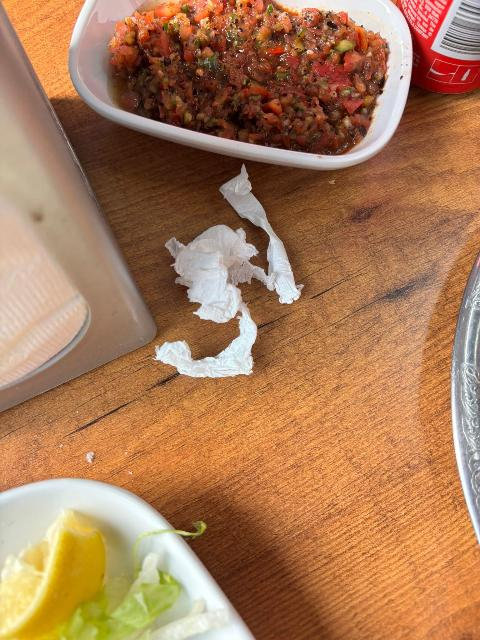Kagit: (155, 169, 312, 384)
Metal: (455, 247, 480, 542), (409, 0, 478, 92)
Organik: (144, 25, 350, 108), (2, 519, 102, 627)
